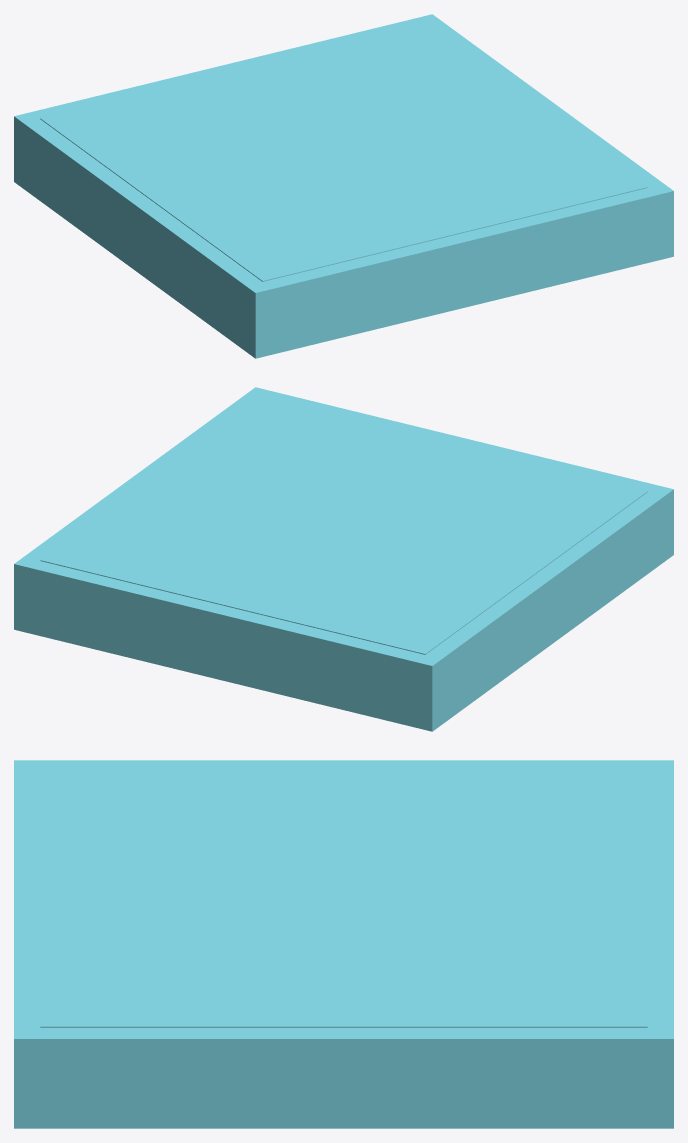
Rendered from turnleft.glb.
3 views of the same model, one above another, from view 1: azimuth 30°, elevation 25°; view 2: azimuth 150°, elevation 25°; view 3: azimuth 270°, elevation 25° (orthographic). The views are drawn at different scales.
Visible parts, largest first — view 1: 立方体.001, 立方体; view 2: 立方体.001, 立方体; view 3: 立方体.001, 立方体.
Part boxes in pixels (left/top/right/bottom): 立方体.001: left=40, top=24, right=647, bottom=281; 立方体: left=14, top=14, right=673, bottom=358; 立方体.001: left=40, top=397, right=647, bottom=654; 立方体: left=14, top=387, right=673, bottom=731; 立方体.001: left=40, top=770, right=647, bottom=1027; 立方体: left=14, top=760, right=673, bottom=1128.
Size of the model in its own units: 2 by 0.304 by 2.
